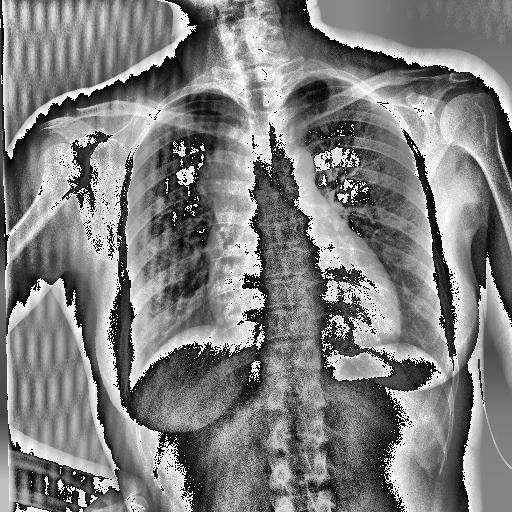3- Cardiomegaly: (199, 215, 406, 365), (184, 252, 410, 360)
8- Nodule-Mass: (178, 136, 252, 216), (192, 140, 258, 210), (182, 142, 244, 204)
